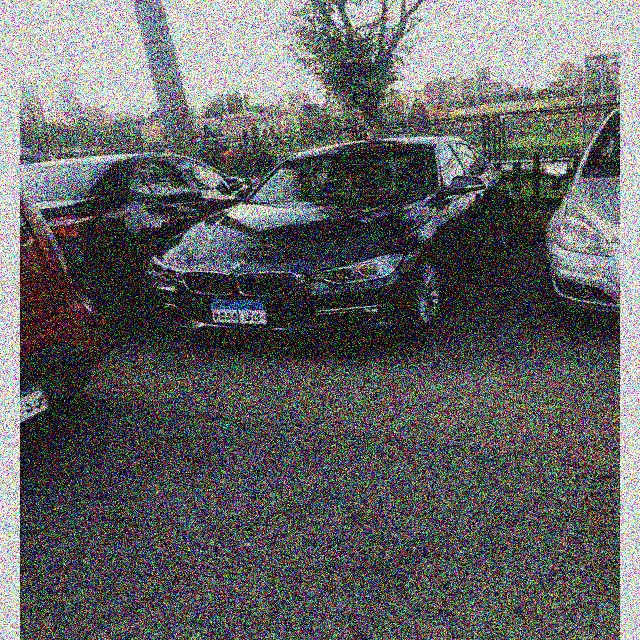License Plate: (208, 298, 269, 327)
